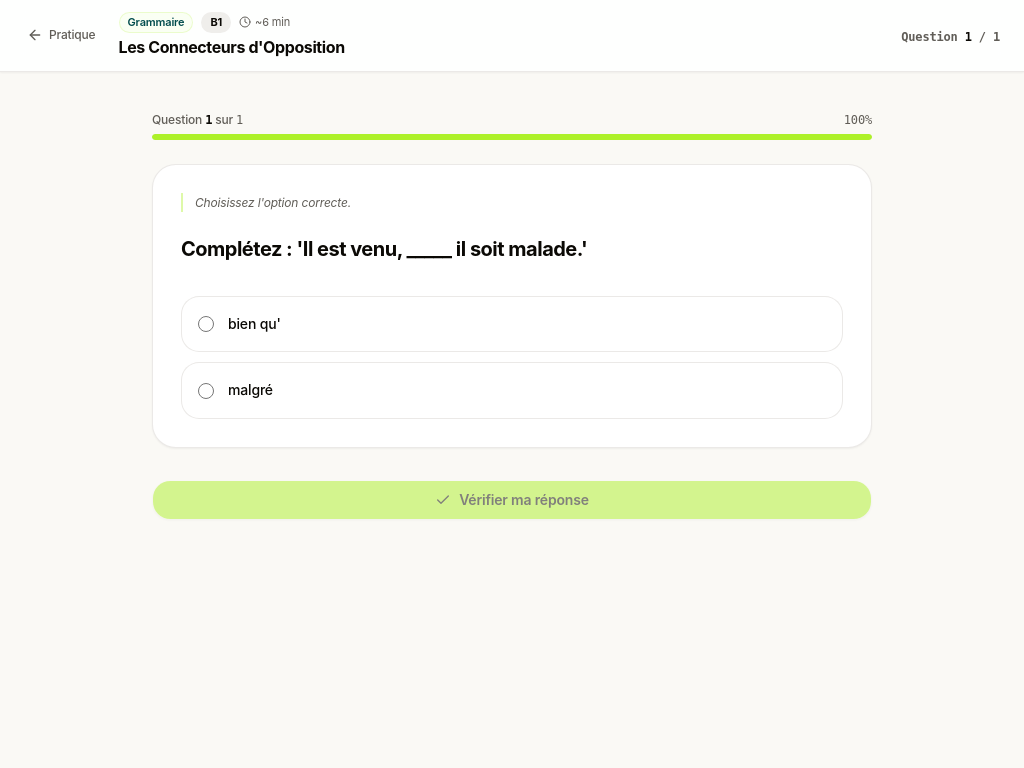
Test case: Student Exercise Player (/exercises/:id) › 9. Full Integration: ExercisePracticePage › retains answer and shows retry banner upon network failure
Expected: the heading "Complétez : 'Il est venu, _____ il soit malade.'" is shown, [181,237,587,261]
Click the radio button labelled "bien qu'".
click(206, 324)  # box [198,316,214,332]
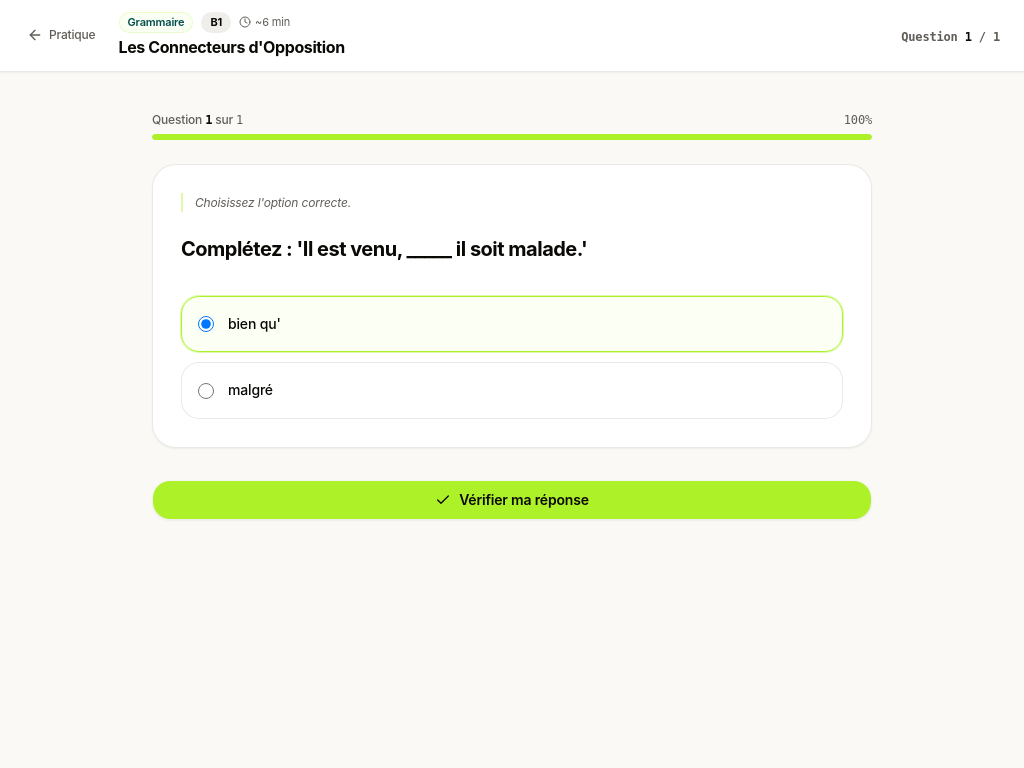
Click the button "Vérifier ma réponse".
click(512, 500)  # box [152,480,872,520]
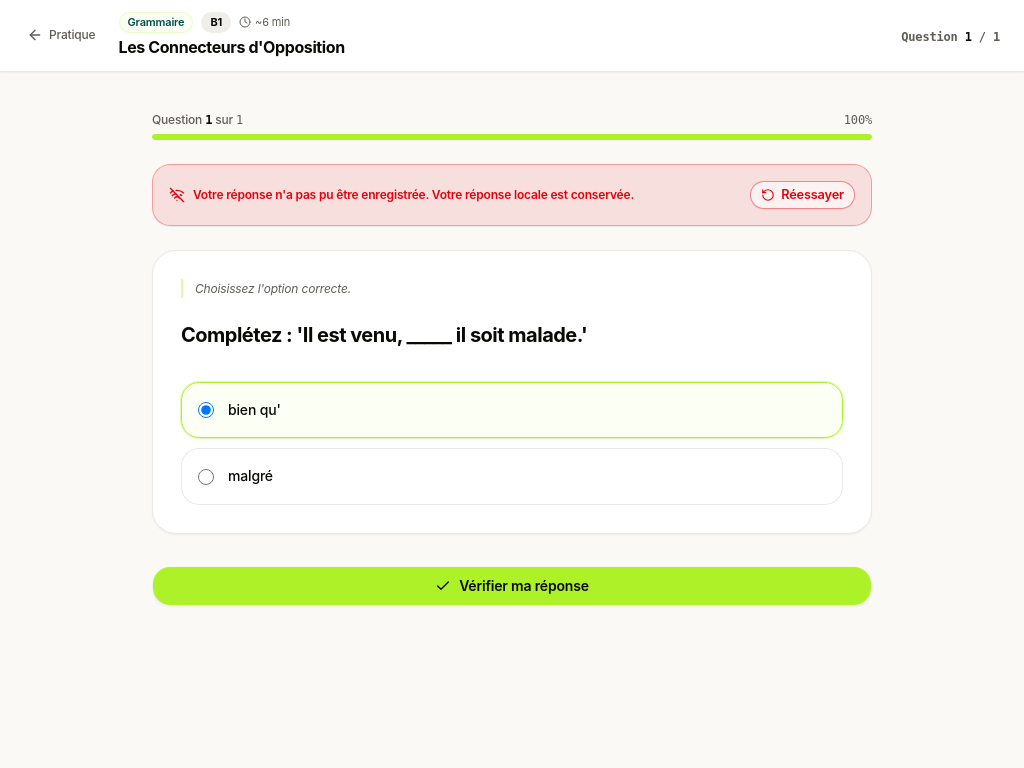
Result: the radio button labelled "bien qu'" is checked at [198,402,214,418]
Result: the text "Votre réponse n'a pas pu être enregistrée. Votre réponse locale est conservée" is shown at [193,186,634,202]
Click retry button in the banner
Click the button "Réessayer".
click(803, 194)  # box [750,180,855,208]
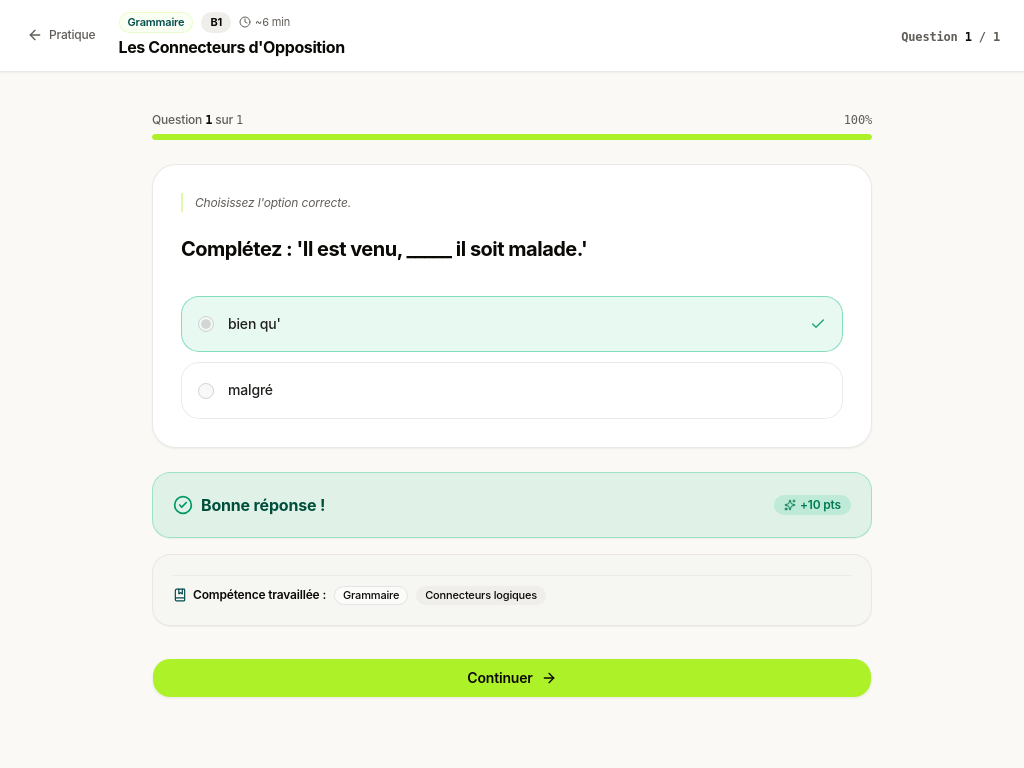
Result: the text "Bonne réponse !" is shown at [201,493,325,517]
